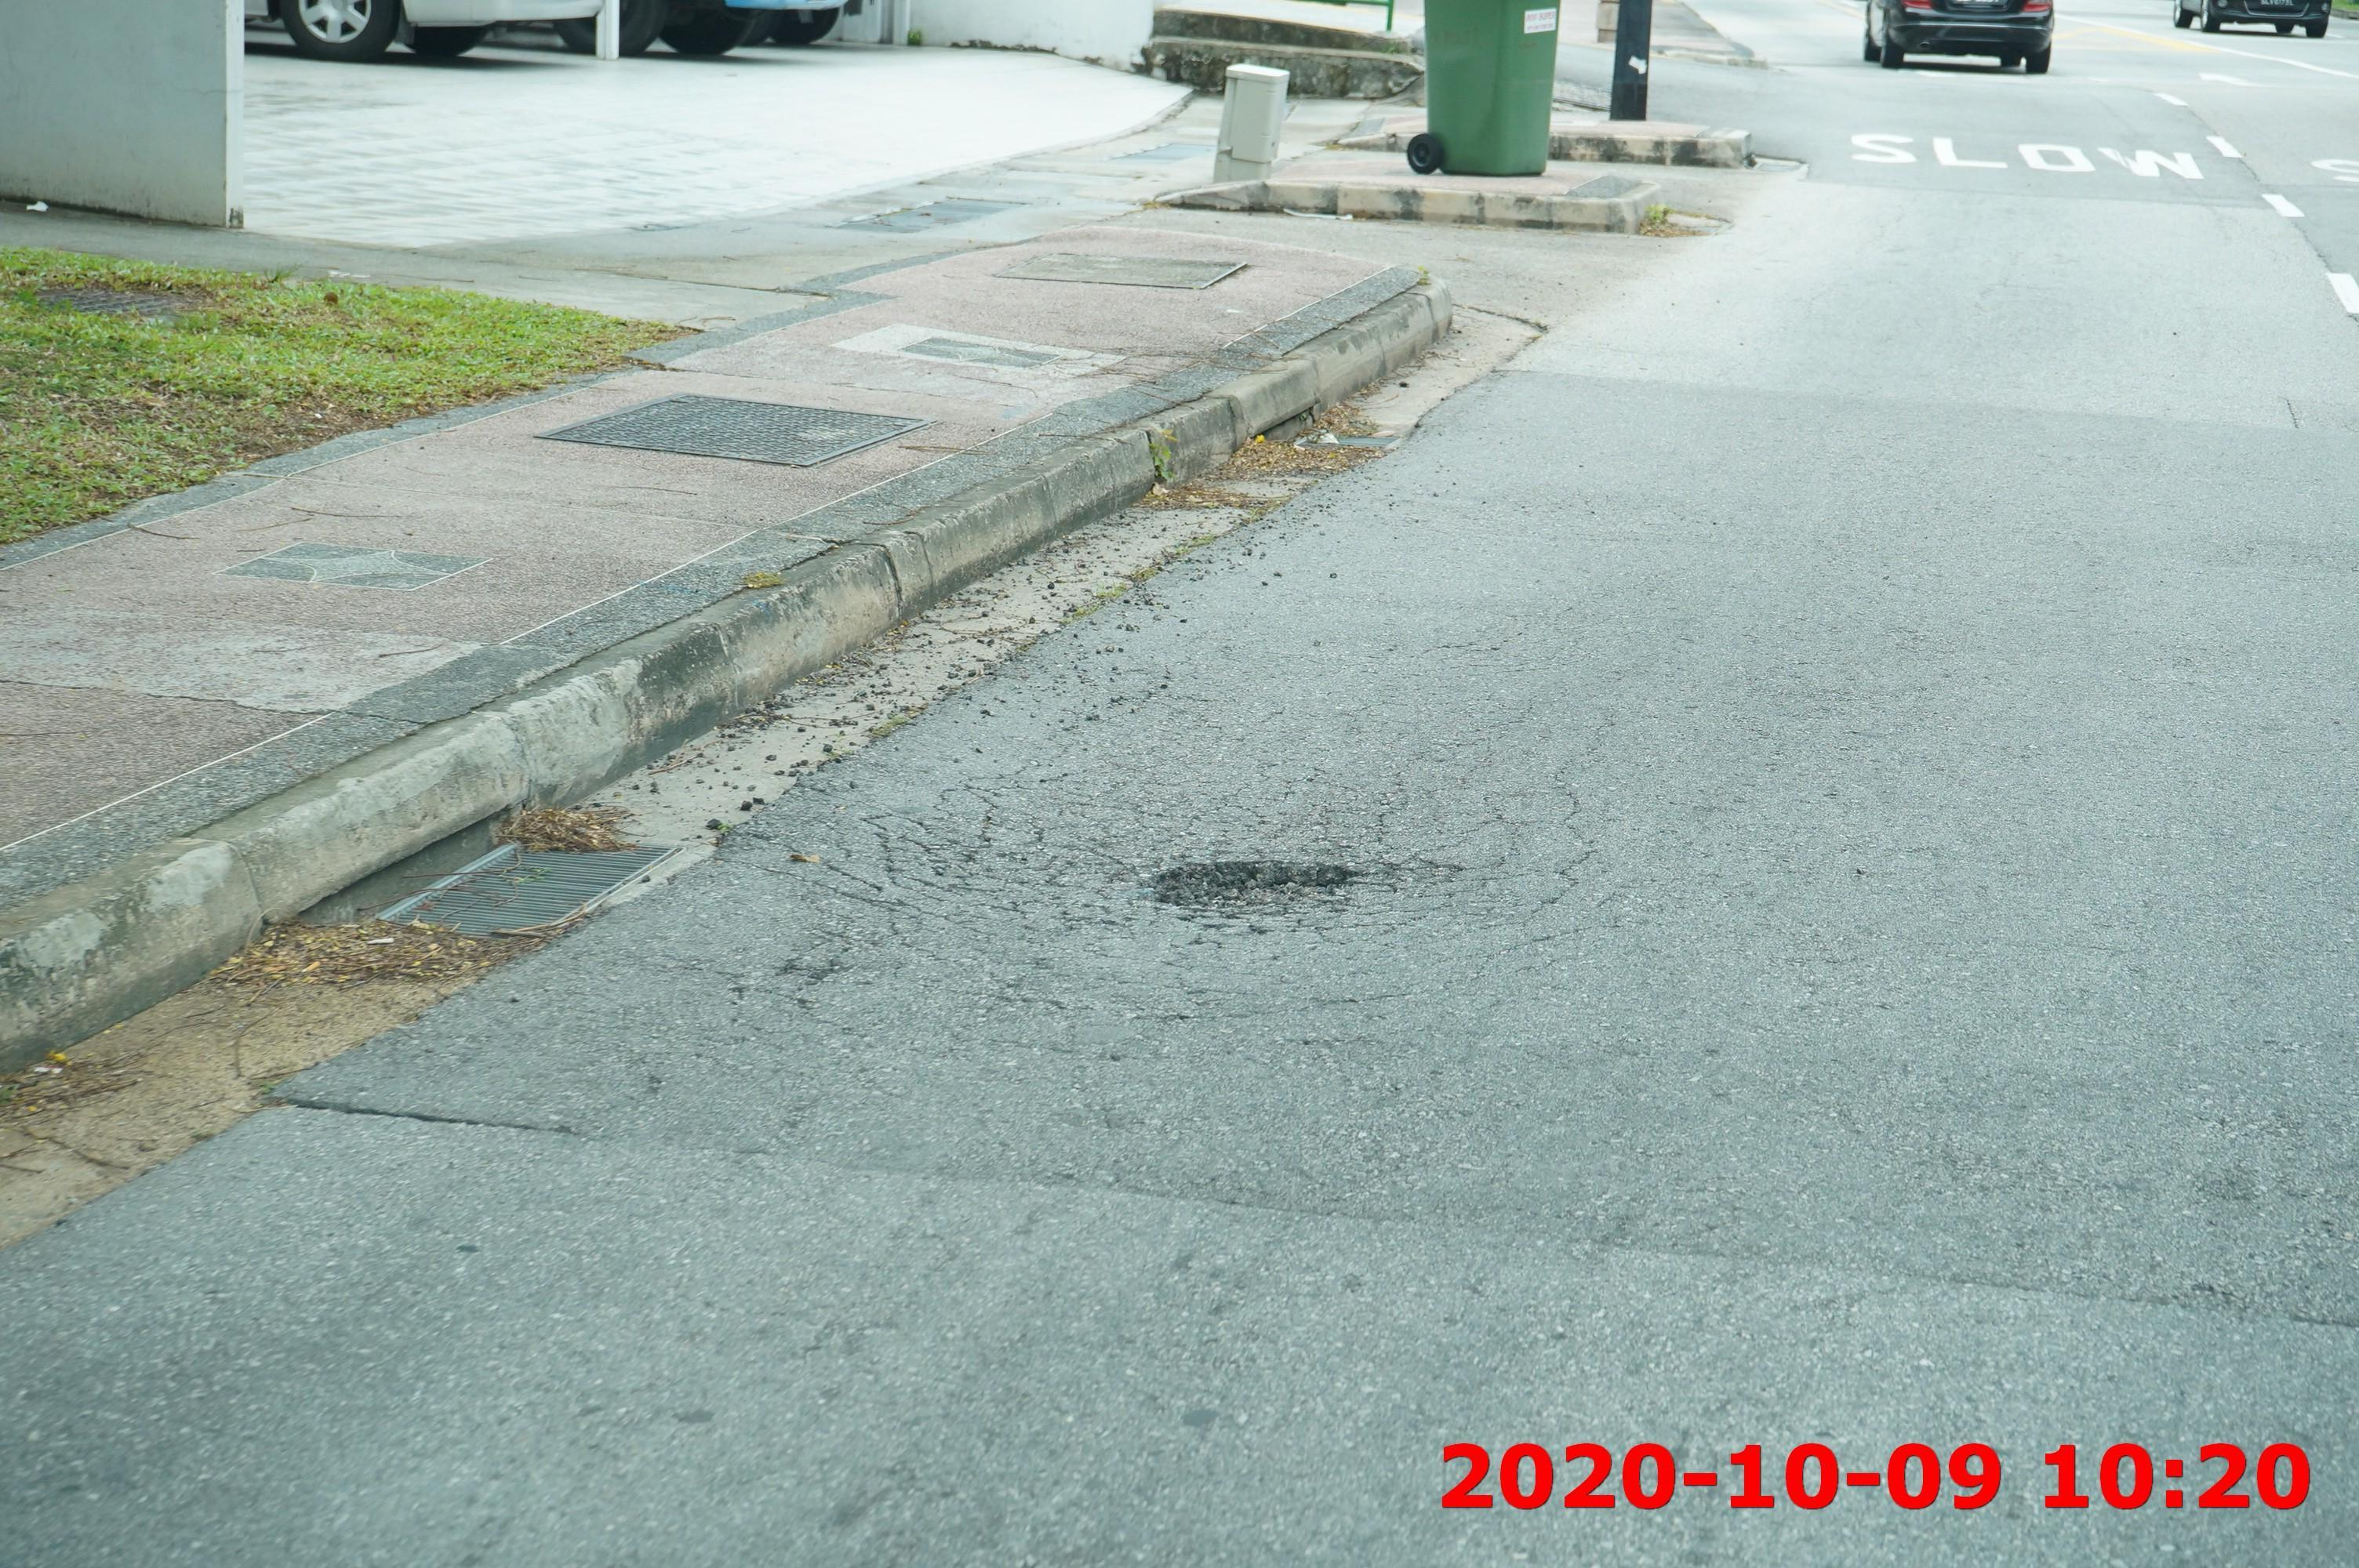peeling off premix: (1139, 842, 1445, 929)
